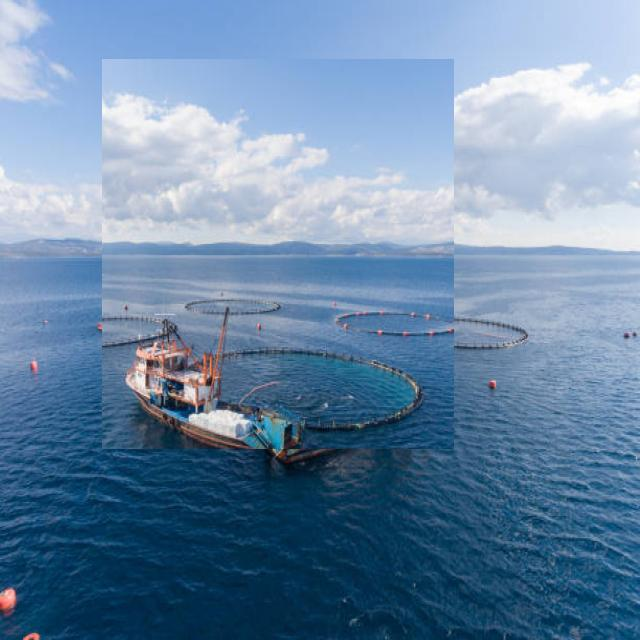Fishing Boat: (102, 59, 454, 449)
